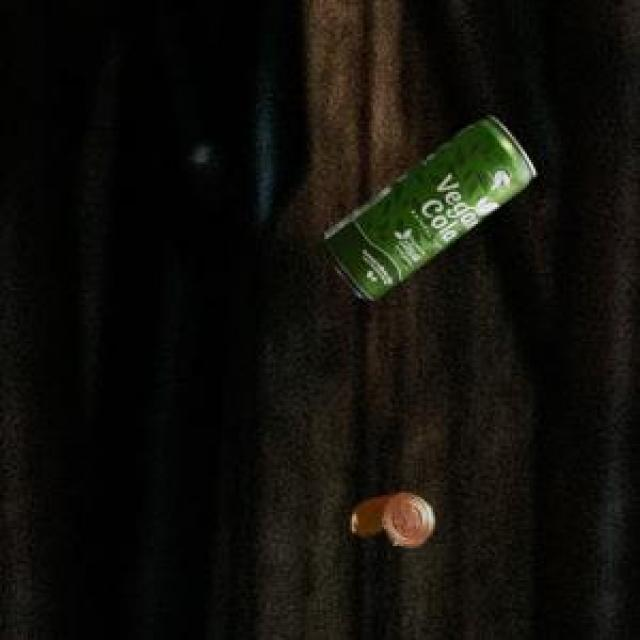logam: (321, 112, 532, 295), (347, 490, 432, 543)
